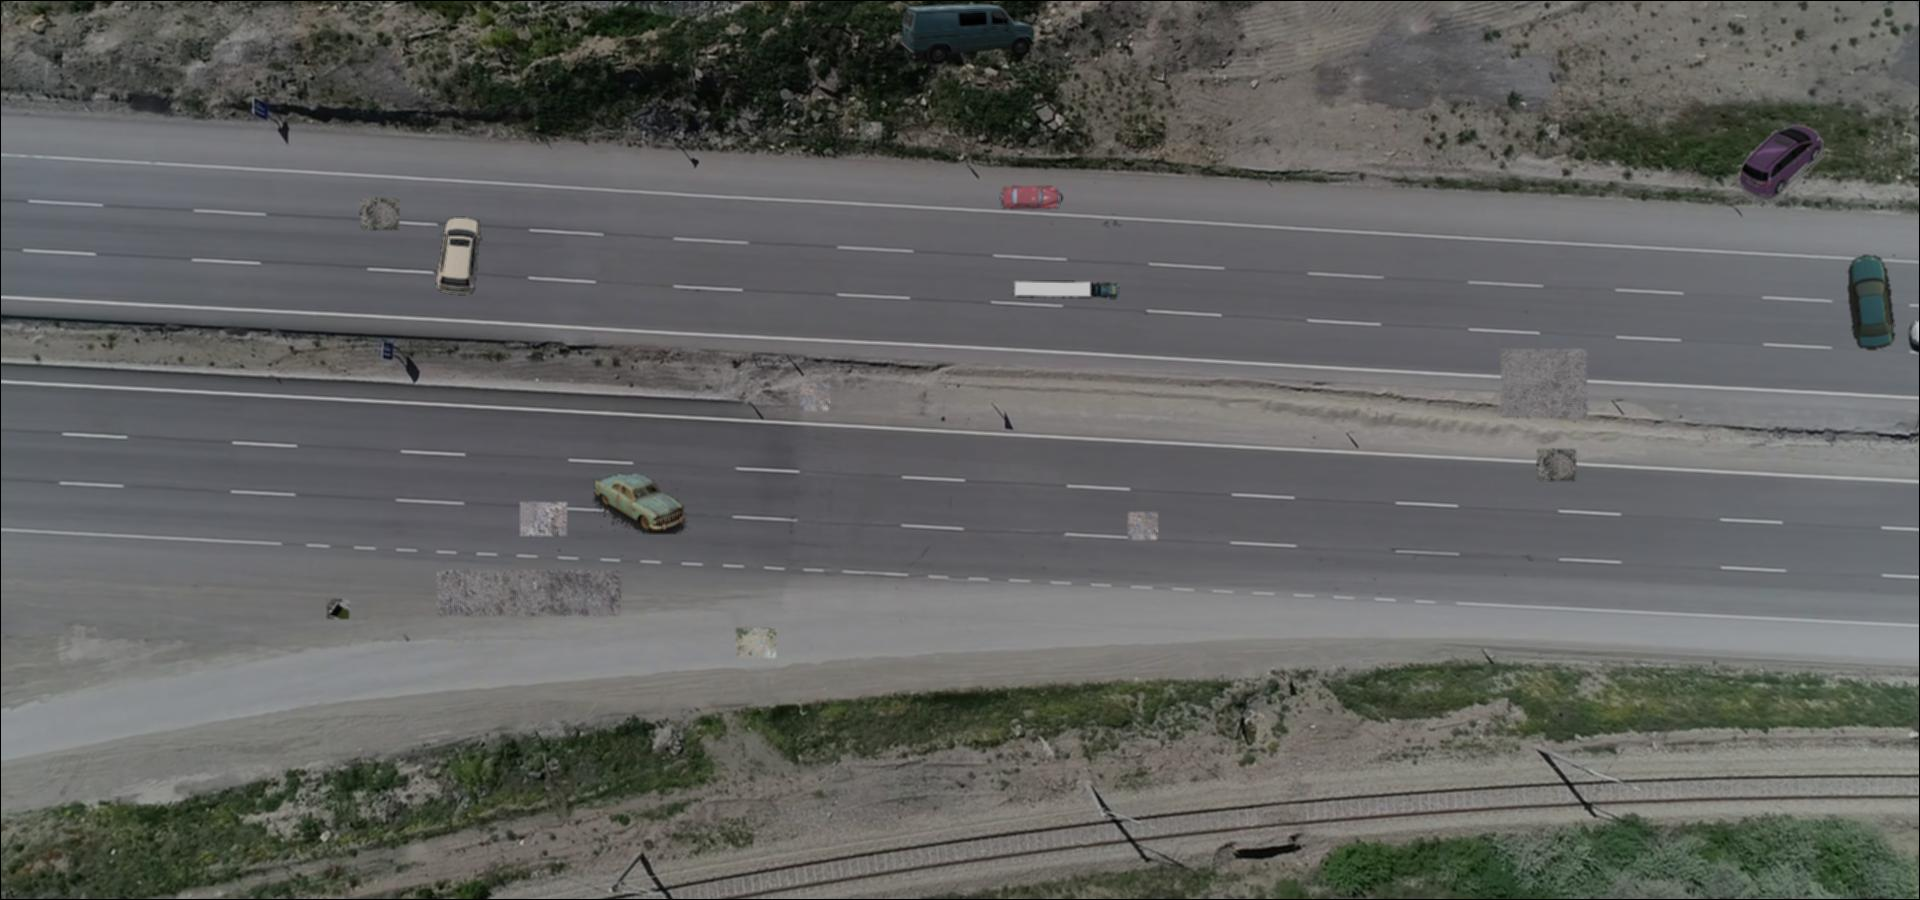arac: (899, 2, 1036, 65), (1739, 118, 1824, 207), (591, 471, 691, 534), (1847, 255, 1897, 350), (433, 216, 482, 295), (1011, 278, 1120, 300), (1000, 184, 1063, 211)
